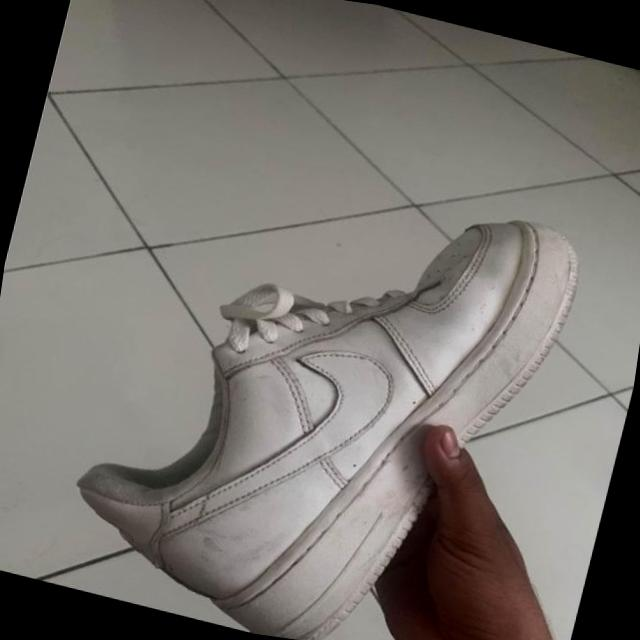nike_fake_airforce: (51, 120, 640, 640)
